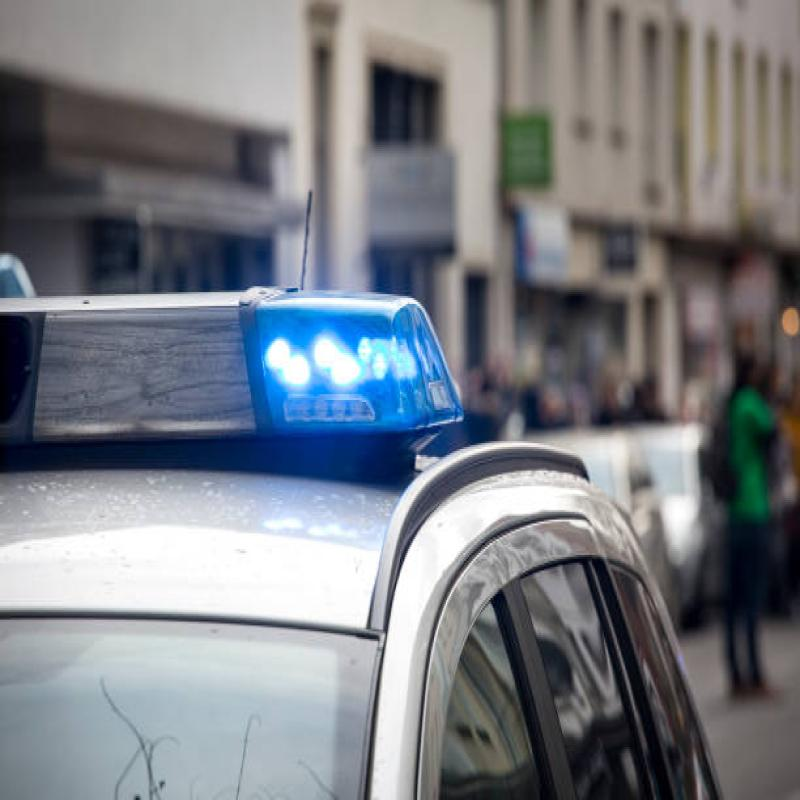AmbulanceSiren: (0, 278, 491, 489)
